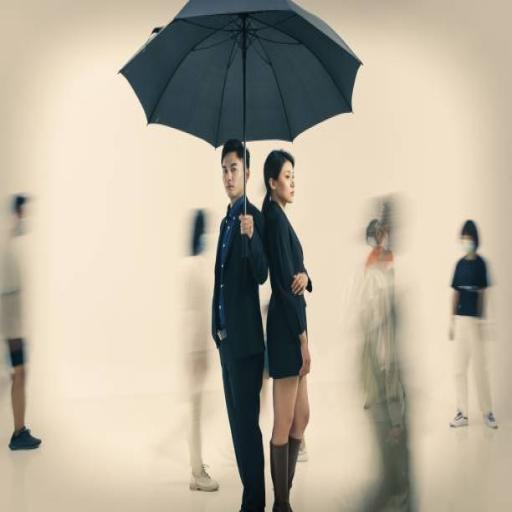guarda_chuva: (116, 0, 363, 253)
